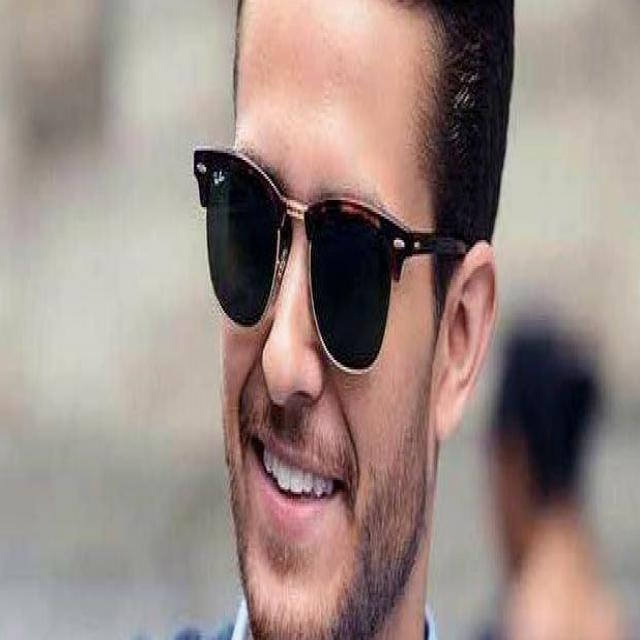Glasses: (190, 141, 467, 381)
